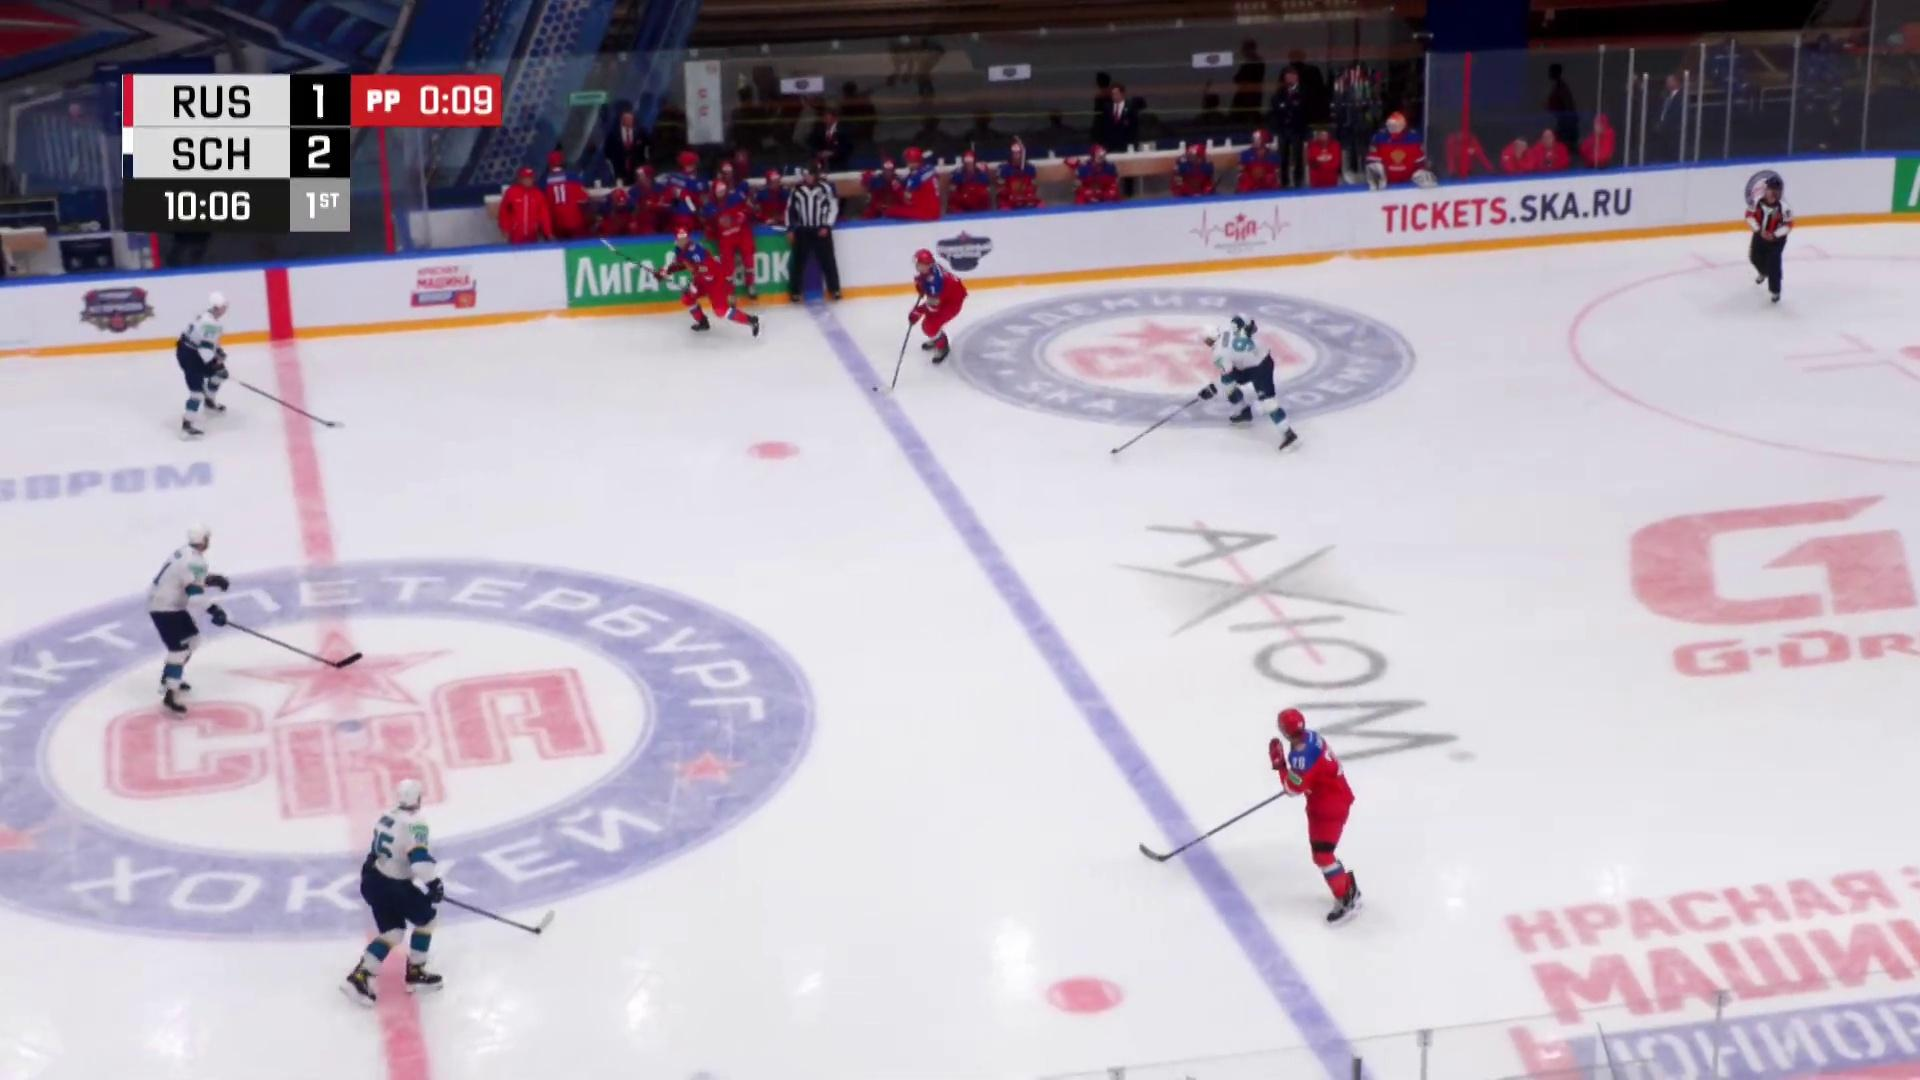ball: (872, 388, 880, 392)
